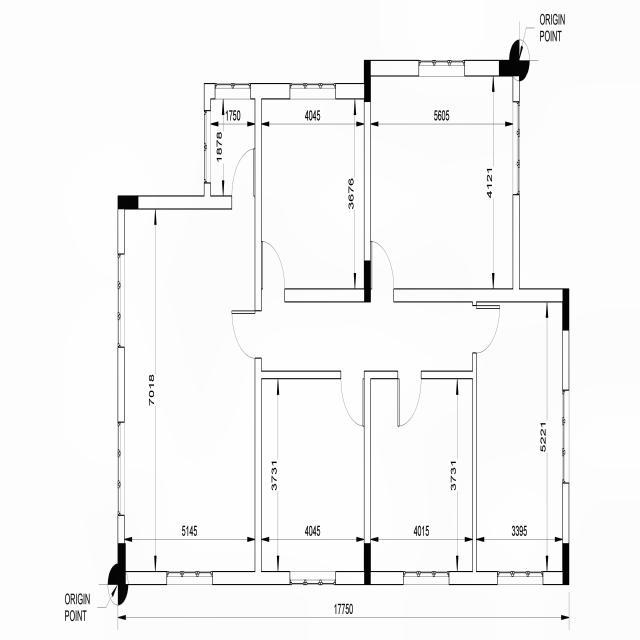Column: (498, 58, 520, 78), (364, 59, 372, 105), (116, 196, 138, 212), (118, 540, 126, 584), (561, 542, 571, 576), (363, 259, 371, 301), (364, 543, 372, 584), (562, 286, 569, 330)
Door: (225, 302, 259, 369), (228, 138, 256, 206), (394, 372, 426, 431), (473, 299, 502, 361), (369, 237, 398, 297), (338, 369, 366, 427), (258, 240, 288, 292)
Window: (284, 72, 340, 104), (112, 247, 128, 351), (112, 418, 128, 520), (414, 51, 468, 81), (198, 102, 214, 188), (509, 97, 522, 198), (400, 565, 450, 590), (560, 386, 572, 490), (161, 563, 215, 586), (284, 564, 340, 586), (492, 566, 544, 588), (214, 82, 251, 100)
